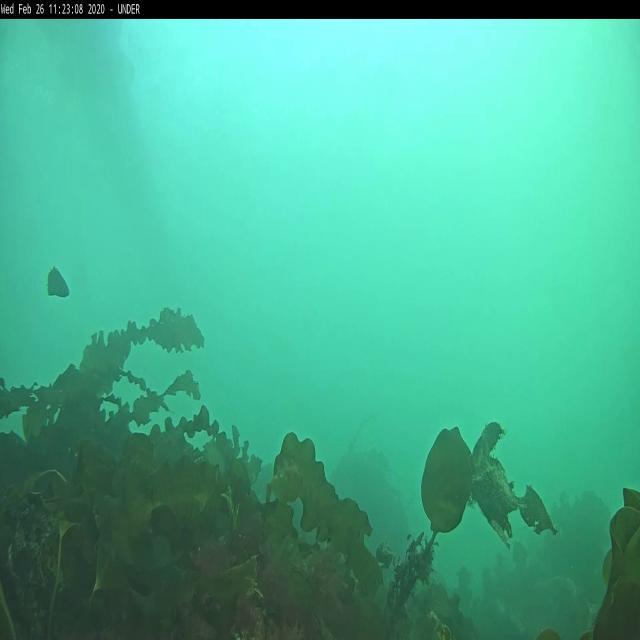fish: (46, 265, 71, 302)
